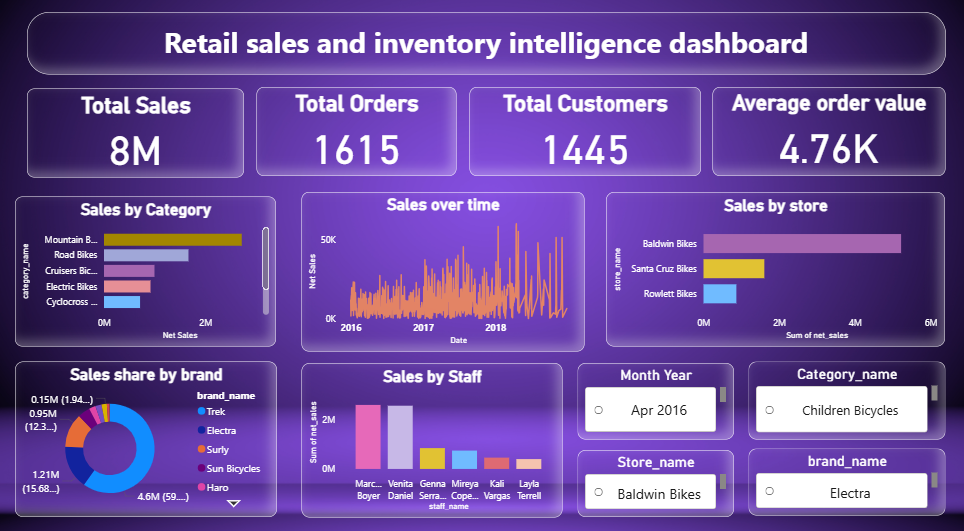

Layout of this report page (visuals, bound fields, positions):
{"tool":"powerbi","page":{"name":"📦Sales dashboard","canvas":[1300,720],"ordinal":0},"visuals":[{"type":"textbox","box":[35.4,16.7,1225,83.3],"z":0},{"type":"card","title":"Total Sales","fields":{"Values":["retail vw_sales_summary.net_sales"]},"box":[35.4,118.8,289.6,118.8],"z":1000},{"type":"card","title":"Total Orders","fields":{"Values":["retail vw_sales_summary.order_id"]},"box":[341.7,116.7,266.7,118.8],"z":2000},{"type":"card","title":"Total Customers","fields":{"Values":["retail vw_sales_summary.customer_id"]},"box":[625,116.7,308.3,118.8],"z":3000},{"type":"card","title":"Average order value","fields":{"Values":["retail vw_inventory_status.Average Order Value"]},"box":[950,116.7,310.4,118.8],"z":4000},{"type":"barChart","title":"Sales by Category","fields":{"Category":["retail vw_sales_summary.category_name"],"Y":["Date.Net Sales"]},"box":[20.8,262.5,347.9,200],"z":5000},{"type":"lineChart","title":"Sales over time","fields":{"Y":["Date.Net Sales"],"Category":["Date.Date"]},"box":[402.1,256.2,377.1,212.5],"z":6000},{"type":"clusteredBarChart","title":"Sales by store","fields":{"Category":["retail vw_sales_summary.store_name"],"Y":["retail vw_sales_summary.net_sales"]},"box":[808.3,256.2,452.1,206.2],"z":7000},{"type":"donutChart","title":"Sales share by brand","fields":{"Category":["retail vw_sales_summary.brand_name"],"Y":["retail vw_sales_summary.net_sales"]},"box":[20,481.5,349,207],"z":8000},{"type":"clusteredColumnChart","title":"Sales by Staff","fields":{"Category":["retail vw_sales_summary.staff_name"],"Y":["retail vw_sales_summary.net_sales"]},"box":[402.1,483.3,347.9,206.2],"z":9000},{"type":"advancedSlicerVisual","fields":{"Values":["Date.Month Year"]},"box":[770.8,483.3,208.3,102.1],"z":10000},{"type":"advancedSlicerVisual","fields":{"Values":["retail vw_sales_summary.category_name"]},"box":[997.9,481.2,262.5,104.2],"z":11000},{"type":"advancedSlicerVisual","fields":{"Values":["retail vw_sales_summary.store_name"]},"box":[770.8,600,208.3,89.6],"z":12000},{"type":"advancedSlicerVisual","fields":{"Values":["retail vw_sales_summary.brand_name"]},"box":[997.9,597.9,262.5,89.6],"z":13000}]}

Visuals, with their boxes in screenshot pixels (x1, y1, x2, y2), scaled from the page's 1300x720 canvas onto the 964x531 screenshot:
textbox: 26 12 935 74
"Total Sales" card: 26 88 241 175
"Total Orders" card: 253 86 451 174
"Total Customers" card: 463 86 692 174
"Average order value" card: 704 86 935 174
"Sales by Category" barChart: 15 194 273 341
"Sales over time" lineChart: 298 189 578 346
"Sales by store" clusteredBarChart: 599 189 935 341
"Sales share by brand" donutChart: 15 355 274 508
"Sales by Staff" clusteredColumnChart: 298 356 556 509
advancedSlicerVisual - Date.Month Year: 572 356 726 432
advancedSlicerVisual - retail vw_sales_summary.category_name: 740 355 935 432
advancedSlicerVisual - retail vw_sales_summary.store_name: 572 442 726 509
advancedSlicerVisual - retail vw_sales_summary.brand_name: 740 441 935 507
